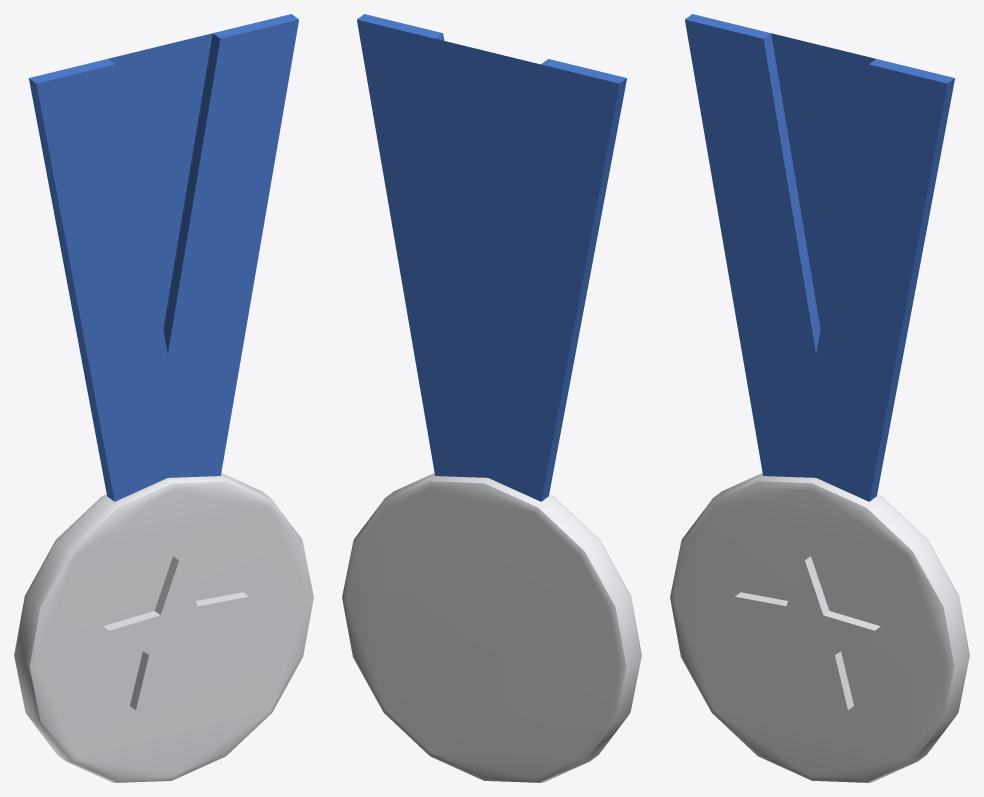
The model's file is SilverMedal.fbx.
3 renders of one model, left to right at view 1: azimuth 30°, elevation 25°; view 2: azimuth 150°, elevation 25°; view 3: azimuth 330°, elevation 25°, orthographic.
Parts seen in each view (by area): view 1: SilverMedal; view 2: SilverMedal; view 3: SilverMedal.
Part boxes in pixels (box(x1,y1,x2,y2)): SilverMedal: box(14, 14, 313, 782); SilverMedal: box(342, 14, 641, 782); SilverMedal: box(670, 14, 969, 782).
Size of the model in its own units: 1.1 by 2.65 by 0.16.
Materials: 1 (1 with a texture image).
